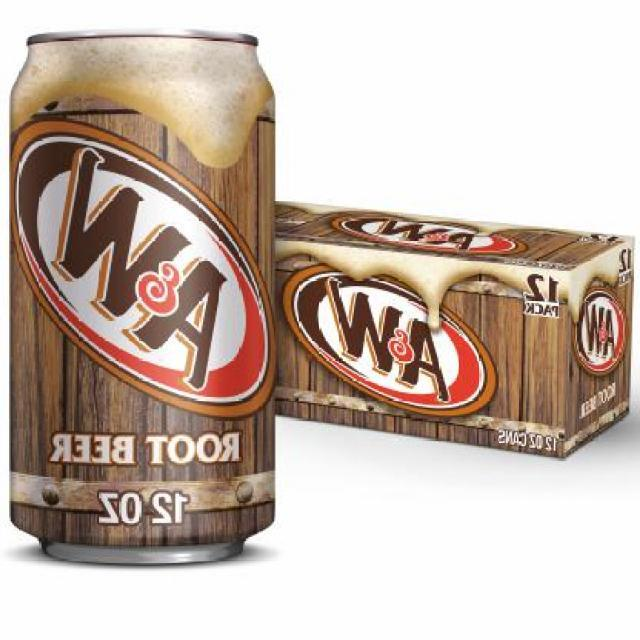can: (4, 11, 282, 570)
